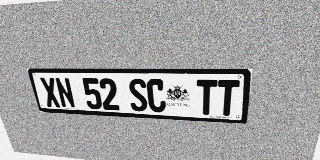2: (98, 78, 120, 110)
5: (82, 78, 103, 110)
C: (146, 79, 166, 113)
N: (54, 78, 76, 108)
S: (128, 79, 148, 112)
T: (216, 80, 240, 116), (196, 80, 217, 115)
X: (39, 77, 61, 108)
